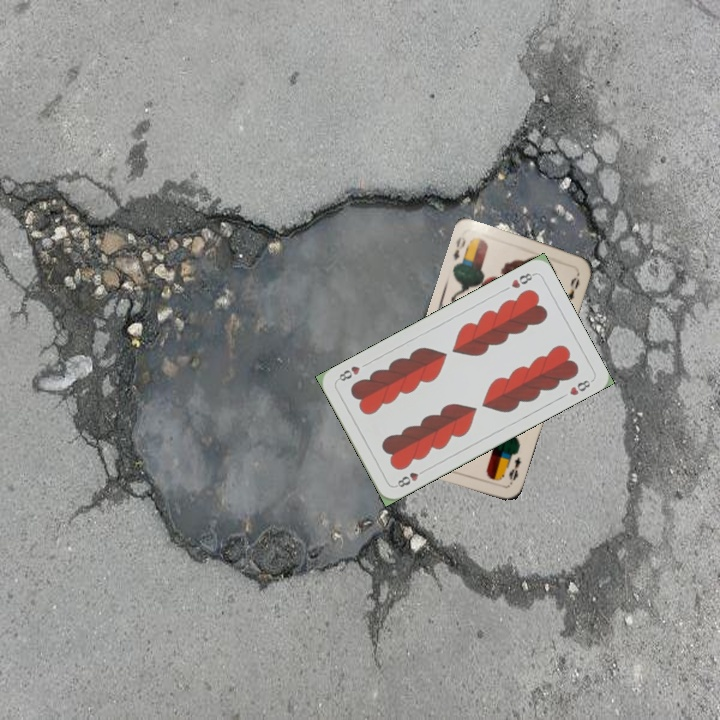EO: (449, 232, 468, 263), (505, 453, 523, 483)
H8: (391, 465, 429, 490), (507, 269, 537, 291)
